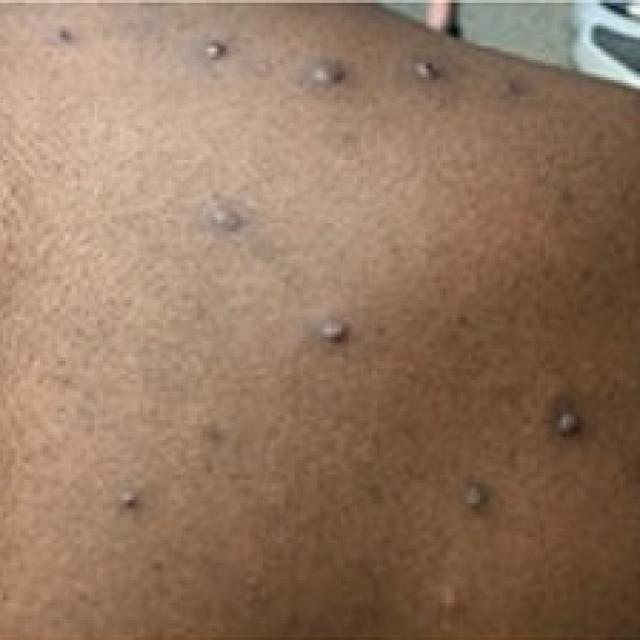Eczema: (25, 19, 589, 550)
